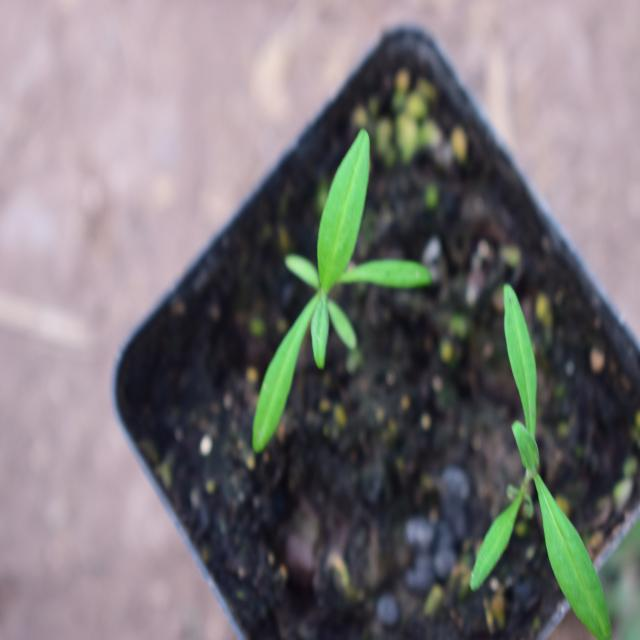white_smart_weed: (213, 116, 416, 439)
